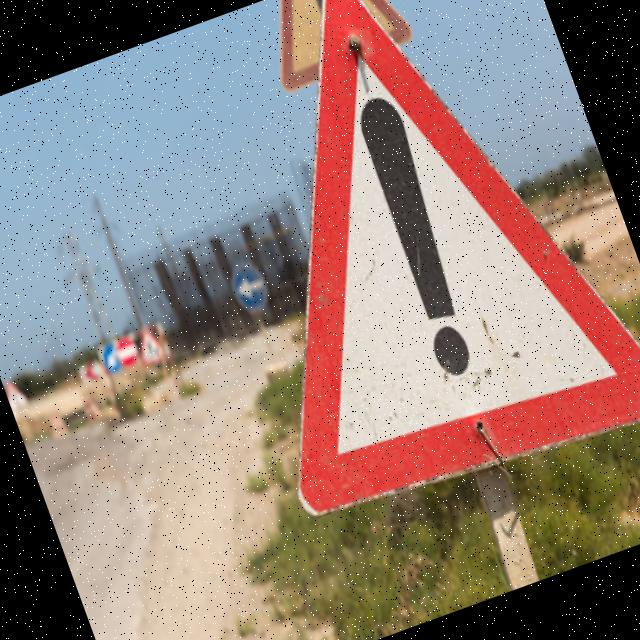warning: (137, 0, 640, 553)
